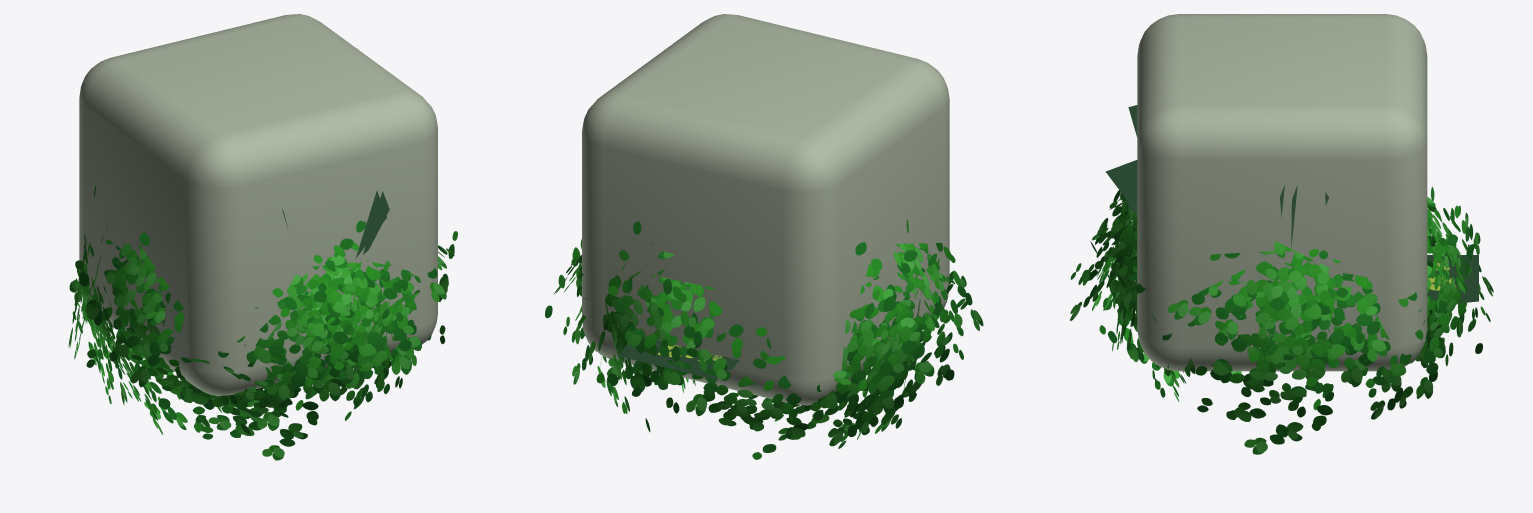
File: elsa_environment_set.glb
3 views of the same model, side by side, from view 1: azimuth 30°, elevation 25°; view 2: azimuth 150°, elevation 25°; view 3: azimuth 270°, elevation 25° (orthographic). The views are drawn at different scales.
Parts seen in each view (by area): view 1: normals tranfer target, Bush A, Bush B-A; view 2: normals tranfer target, Bush A, Bush B card A; view 3: normals tranfer target, Bush A, Bush B card A, Bush B-A.
Boxes of the visible parts, x1,y1,x2,y2 form: normals tranfer target: (79, 14, 437, 395); Bush A: (68, 186, 457, 460); Bush B-A: (355, 191, 389, 258); normals tranfer target: (582, 14, 949, 405); Bush A: (545, 220, 983, 459); Bush B card A: (619, 340, 739, 379); normals tranfer target: (1137, 14, 1427, 371); Bush A: (1070, 187, 1493, 454); Bush B card A: (1427, 255, 1478, 303); Bush B-A: (1106, 160, 1328, 214).
Size of the model in its own units: 4.47 by 3.89 by 4.31.
Materials: 4 (4 with a texture image).
